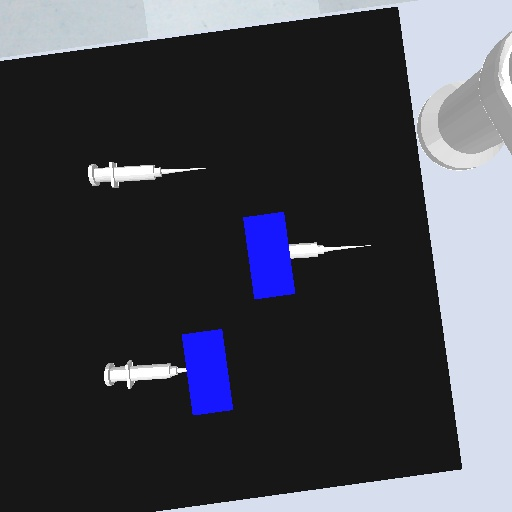jeringuilla: (85, 159, 211, 190), (101, 358, 189, 393), (287, 238, 375, 263)
